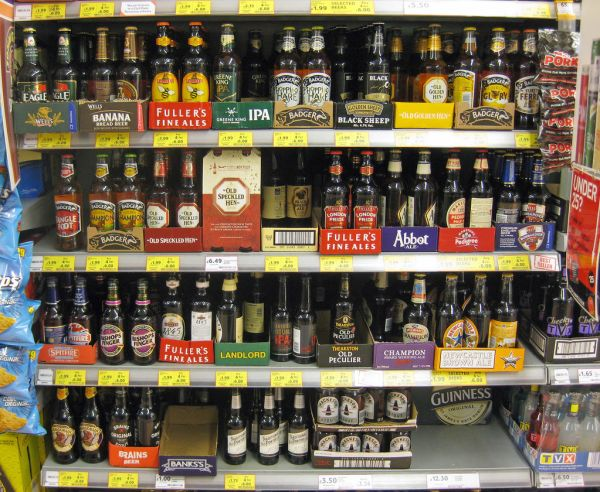unknown_bottle: (128, 278, 158, 366), (99, 278, 127, 365), (352, 155, 380, 229)
